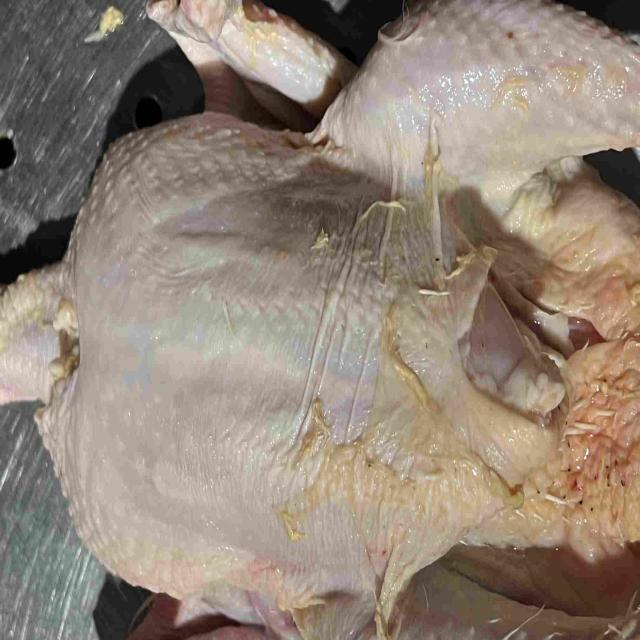breast: (47, 114, 556, 592)
leg: (340, 0, 640, 211), (323, 563, 640, 640)
neck: (0, 254, 77, 404)
wing: (140, 0, 350, 127)
